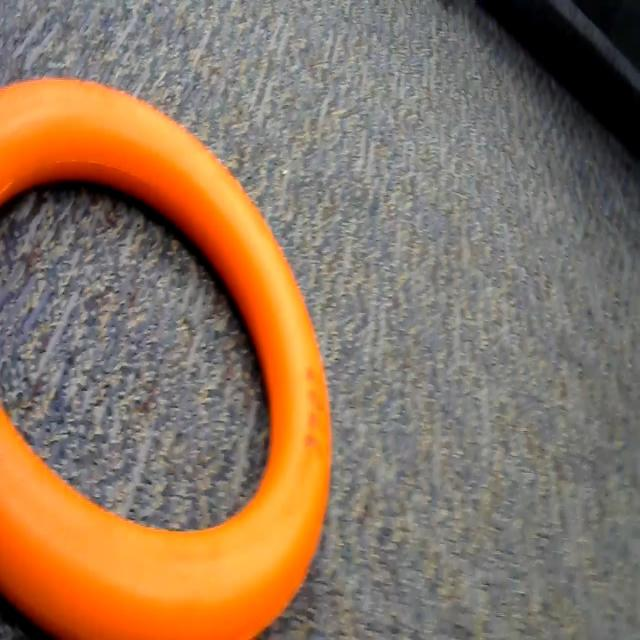note: (0, 65, 344, 640)
